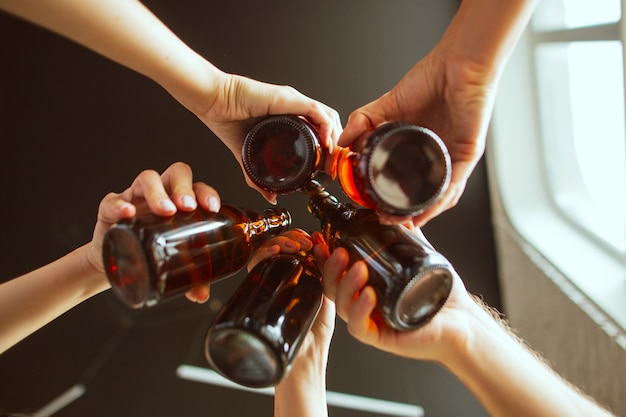alcohol: (299, 177, 454, 332), (100, 204, 293, 309), (202, 237, 326, 389), (327, 117, 453, 216), (238, 107, 324, 195)
